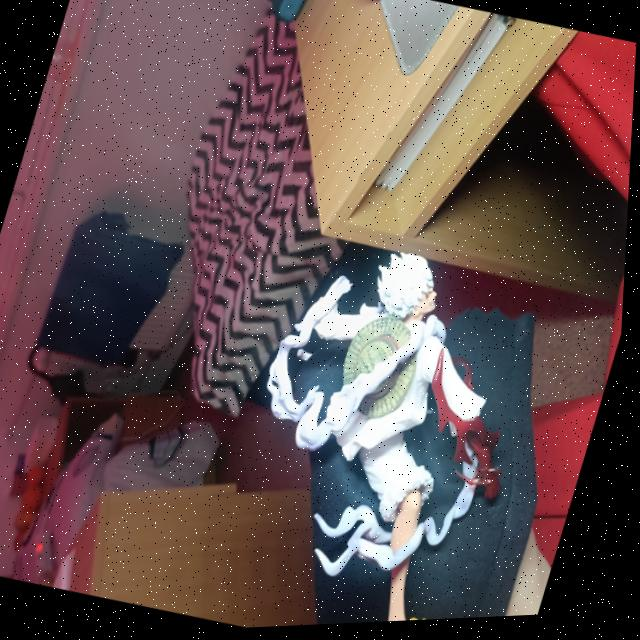luffy: (185, 219, 566, 633)
